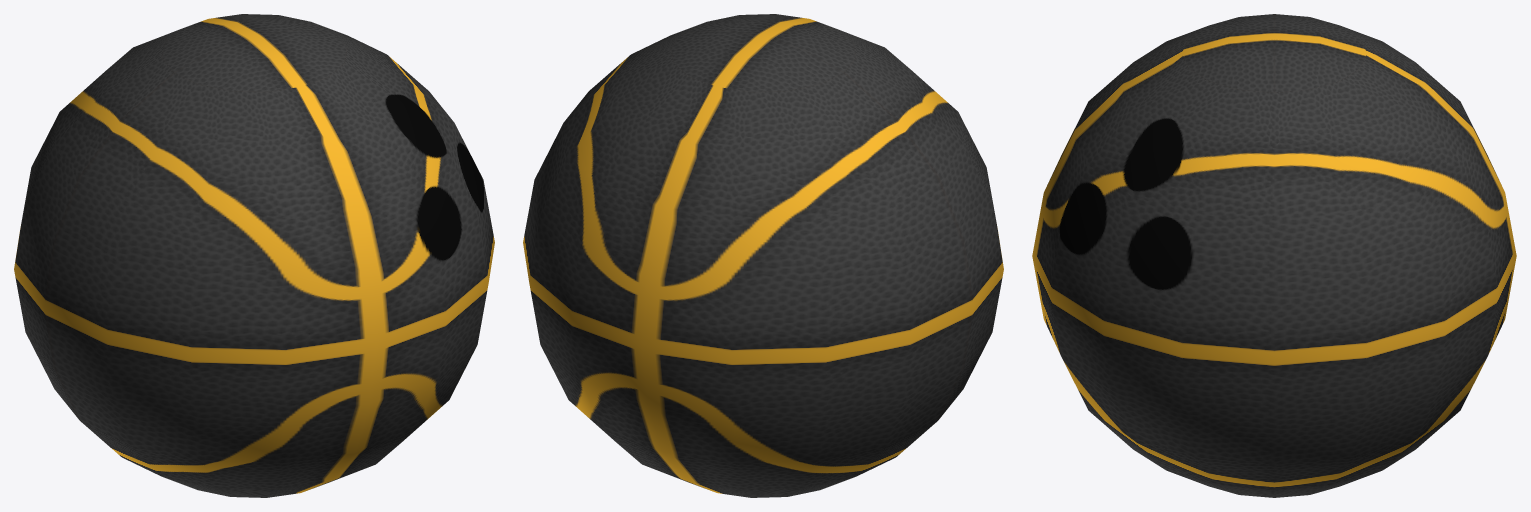
Rendered from qiu_24.FBX.
The picture shows the model from 3 angles, left to right: view 1: azimuth 30°, elevation 25°; view 2: azimuth 150°, elevation 25°; view 3: azimuth 270°, elevation 25°; orthographic projection.
Visible parts, largest first — view 1: qiu_24; view 2: qiu_24; view 3: qiu_24.
Boxes of the visible parts, box(x1,y1,x2,y2) form: qiu_24: box(14, 14, 494, 497); qiu_24: box(523, 14, 1003, 497); qiu_24: box(1032, 14, 1516, 497).
Size of the model in its own units: 591 by 591 by 591.
1 material, 1 textured.
